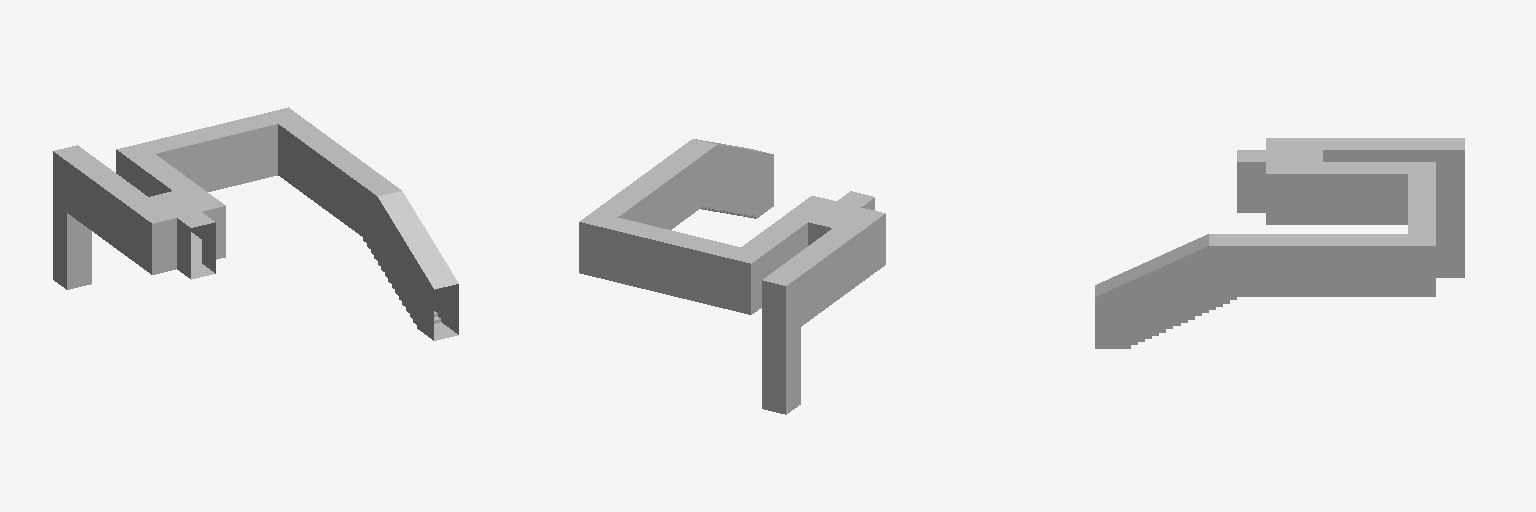
File: map5.obj
3 renders of one model, left to right at view 1: azimuth 30°, elevation 25°; view 2: azimuth 150°, elevation 25°; view 3: azimuth 270°, elevation 25°, orthographic.
Parts seen in each view (by area): view 1: map5; view 2: map5; view 3: map5.
Boxes of the visible parts, box(x1,y1,x2,y2) form: map5: box(53, 107, 458, 340); map5: box(579, 139, 885, 414); map5: box(1095, 138, 1464, 348).
Size of the model in its own units: 9 by 5 by 13.